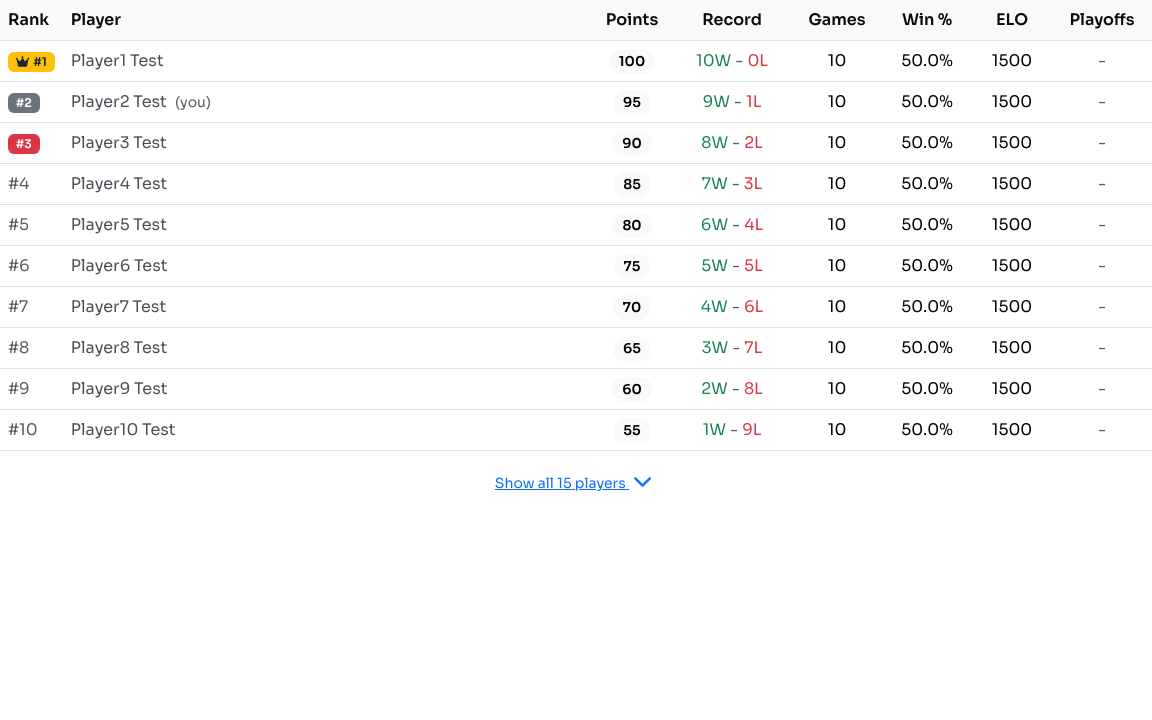
Test: LeaderboardSection › compact mode › should toggle to show all players when clicking "Show all"
This screenshot has width=1152, height=720.
Click the button "Show all 15 players" at {"x": 576, "y": 483}, box [486,467,666,499]
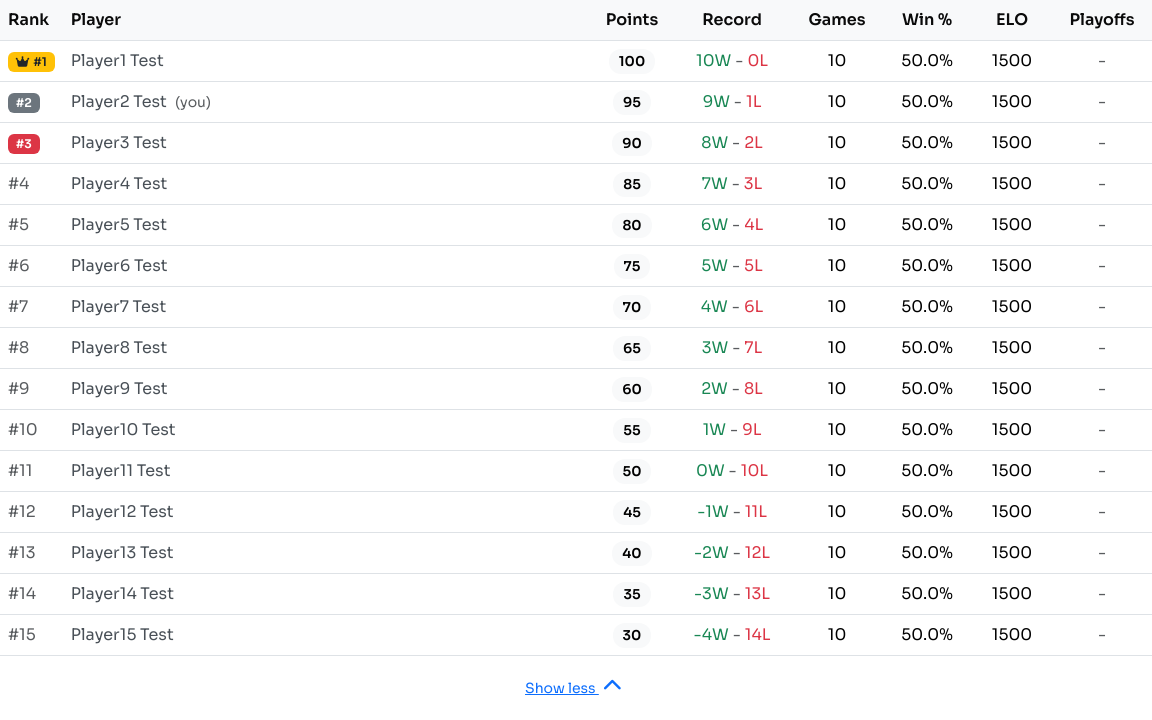
Expected: the link "Player11 Test" is shown, [71,460,170,481]
Expected: the link "Player15 Test" is shown, [71,624,174,645]
Expected: the button "Show less" is shown, [516,672,636,704]
